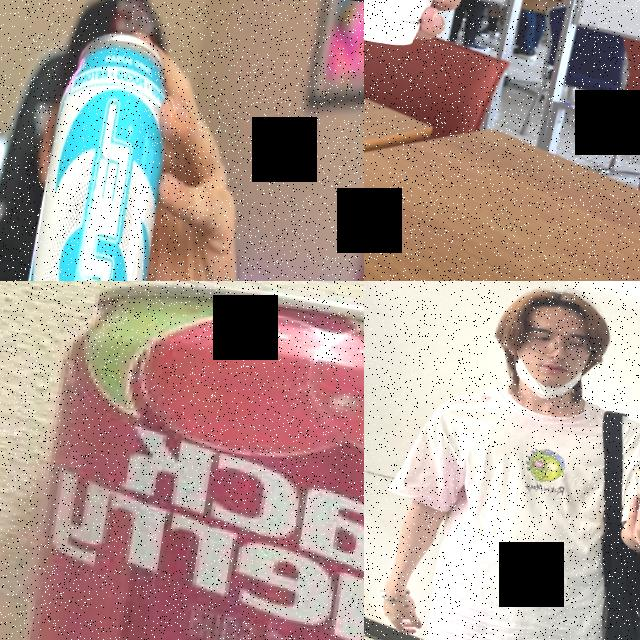can: (0, 281, 364, 640), (0, 18, 187, 281)
cup: (622, 463, 640, 537)
